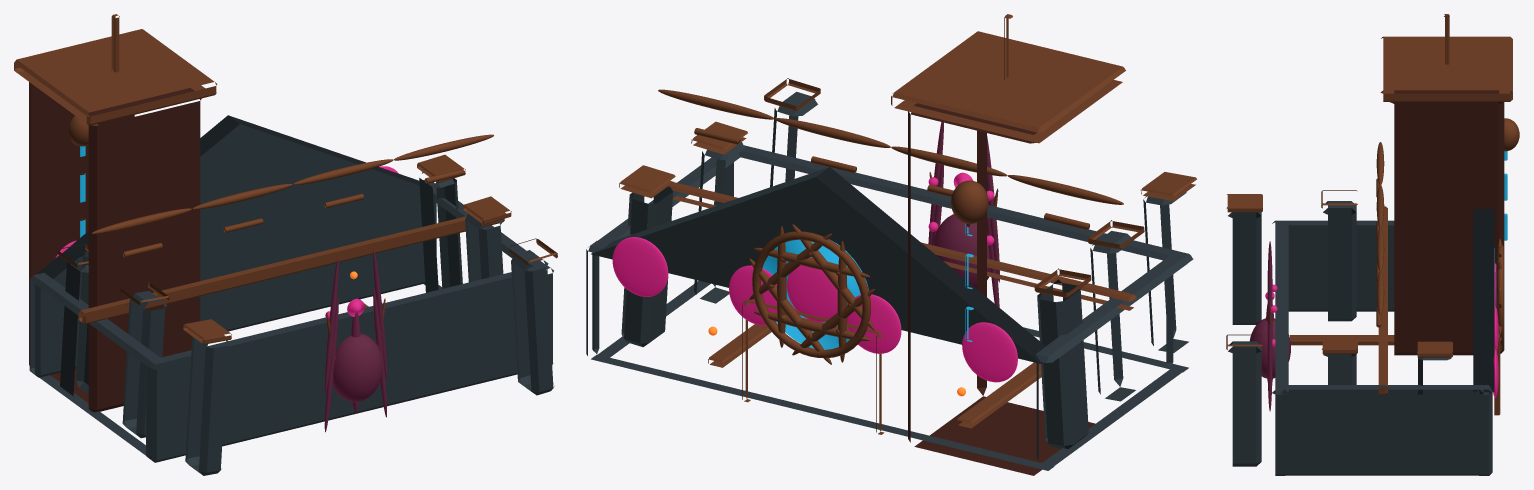
The model's file is cathedral.gltf.
3 views of the same model, side by side, from view 1: azimuth 30°, elevation 25°; view 2: azimuth 150°, elevation 25°; view 3: azimuth 270°, elevation 25° (orthographic). The views are drawn at different scales.
Parts seen in each view (by area): view 1: CathedralTower, CathedralNaveRearWall, CathedralButtress (×6), CathedralNave, CathedralNaveGable, CathedralTowerCap, CathedralNaveCap, CathedralNaveSideL, CathedralChoirCore, CathedralButtressCap1_1, CathedralNaveSideR, CathedralButtressCap0_2 (+8 smaller); view 2: CathedralNaveGable, CathedralButtress (×6), CathedralTowerCap, CathedralTower, CathedralNaveRearWall, CathedralNaveSideL, CathedralNave, CathedralRoseRim, CathedralNaveCap, CathedralAisle (×2), CathedralWindowBlue3, CathedralWindowBlue0 (+23 smaller); view 3: CathedralTower, CathedralNaveSideR, CathedralButtress (×4), CathedralTowerCap, CathedralNaveSideL, CathedralNaveGable, CathedralNaveRearWall, CathedralNaveCap, CathedralNave, CathedralChoirCore, CathedralAisle, CathedralButtressCap0_2 (+6 smaller).
Part boxes in pixels (bbox=[...]): CathedralTower: bbox=[29, 82, 201, 412]; CathedralNaveRearWall: bbox=[146, 264, 553, 462]; CathedralButtress (×6): bbox=[60, 172, 554, 475]; CathedralNave: bbox=[29, 179, 436, 377]; CathedralNaveGable: bbox=[37, 115, 419, 282]; CathedralTowerCap: bbox=[14, 29, 217, 125]; CathedralNaveCap: bbox=[78, 216, 504, 324]; CathedralNaveSideL: bbox=[34, 277, 163, 458]; CathedralChoirCore: bbox=[332, 333, 382, 402]; CathedralButtressCap1_1: bbox=[463, 196, 511, 224]; CathedralNaveSideR: bbox=[424, 183, 547, 289]; CathedralButtressCap0_2: bbox=[183, 319, 231, 344]; CathedralNaveGable: bbox=[591, 167, 1045, 363]; CathedralButtress (×6): bbox=[621, 91, 1188, 448]; CathedralTowerCap: bbox=[891, 31, 1125, 143]; CathedralTower: bbox=[908, 103, 1095, 475]; CathedralNaveRearWall: bbox=[729, 145, 1193, 372]; CathedralNaveSideL: bbox=[1036, 255, 1186, 466]; CathedralNave: bbox=[586, 241, 1058, 470]; CathedralRoseRim: bbox=[752, 231, 871, 358]; CathedralNaveCap: bbox=[668, 182, 1136, 310]; CathedralAisle (×2): bbox=[708, 322, 1041, 428]; CathedralWindowBlue3: bbox=[612, 237, 668, 296]; CathedralWindowBlue0: bbox=[962, 322, 1017, 382]; CathedralTower: bbox=[1390, 90, 1504, 355]; CathedralNaveSideR: bbox=[1280, 385, 1483, 475]; CathedralButtress (×4): bbox=[1228, 201, 1356, 466]; CathedralTowerCap: bbox=[1380, 36, 1512, 101]; CathedralNaveSideL: bbox=[1284, 220, 1394, 311]; CathedralNaveGable: bbox=[1473, 209, 1494, 392]; CathedralNaveRearWall: bbox=[1272, 220, 1288, 475]; CathedralNaveCap: bbox=[1376, 206, 1387, 394]; CathedralNave: bbox=[1476, 385, 1492, 475]; CathedralChoirCore: bbox=[1250, 318, 1290, 378]; CathedralAisle: bbox=[1289, 335, 1394, 345]; CathedralButtressCap0_2: bbox=[1226, 194, 1262, 212].
Size of the model in its own units: 12.6 by 10.54 by 8.64.
